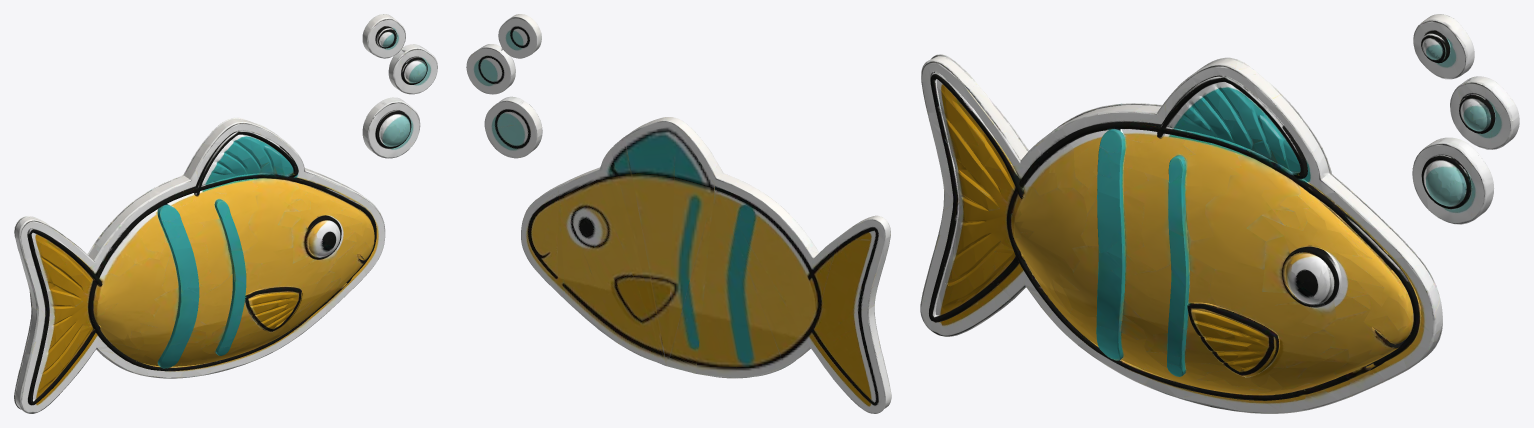
Rendered from pez.glb.
3 renders of one model, left to right at view 1: azimuth 30°, elevation 25°; view 2: azimuth 150°, elevation 25°; view 3: azimuth 330°, elevation 25°, orthographic. The views are drawn at different scales.
Size of the model in its own units: 1.9 by 1.36 by 0.196.
Materials: 1 (1 with a texture image).
